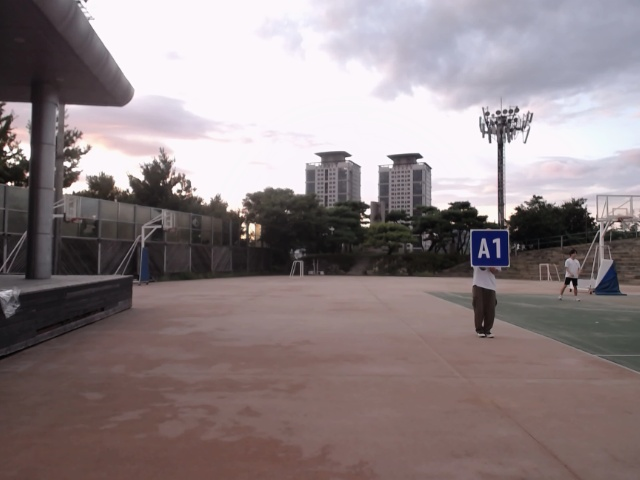delivery_a1: (470, 230, 509, 267)
